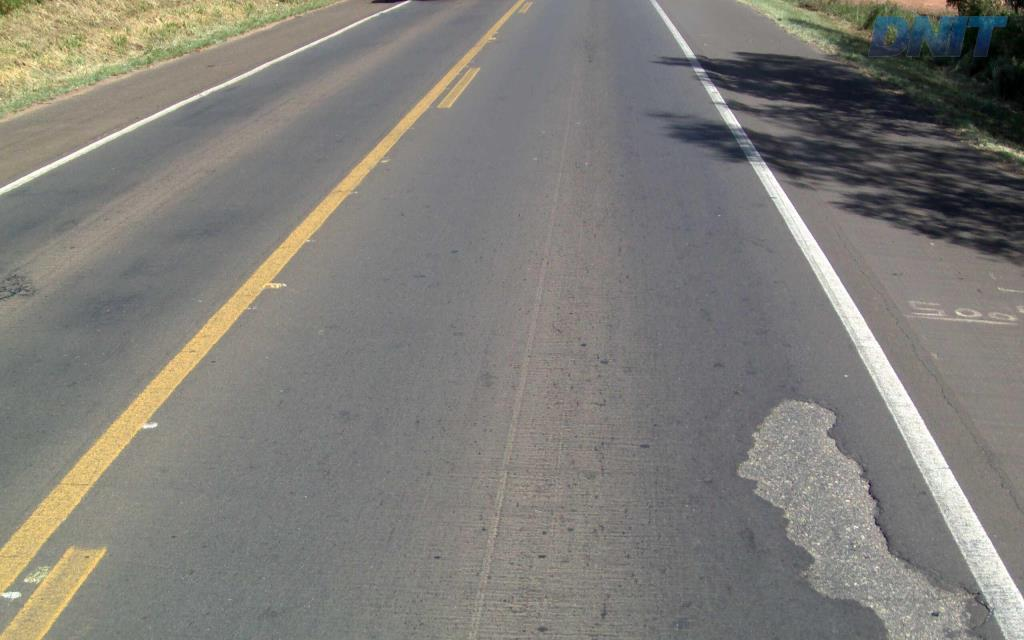pothole: (720, 390, 992, 638)
